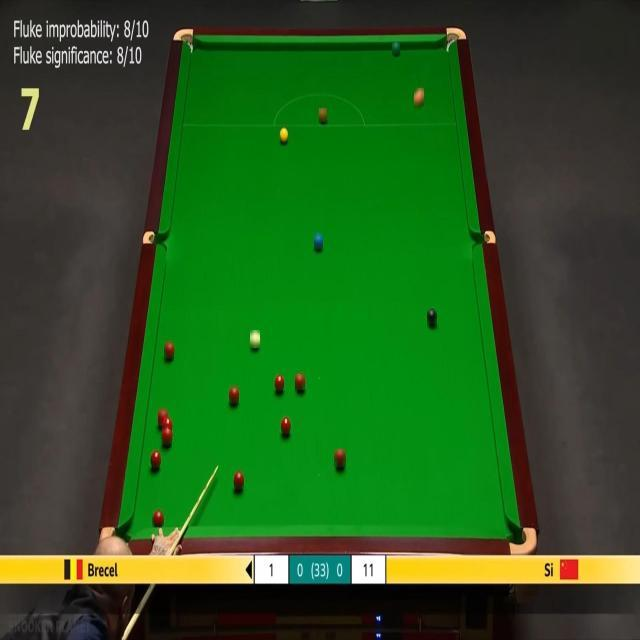Ball: (334, 450, 346, 468), (150, 451, 162, 468), (152, 510, 164, 526), (281, 417, 291, 435), (164, 341, 174, 359), (414, 88, 424, 106), (234, 471, 244, 489), (229, 386, 239, 404), (158, 408, 168, 426), (274, 374, 284, 392), (162, 427, 172, 445), (250, 331, 260, 348), (427, 308, 437, 325), (296, 374, 306, 390), (314, 233, 323, 249), (280, 128, 288, 144), (162, 418, 172, 430), (320, 108, 328, 122), (392, 42, 400, 54)
